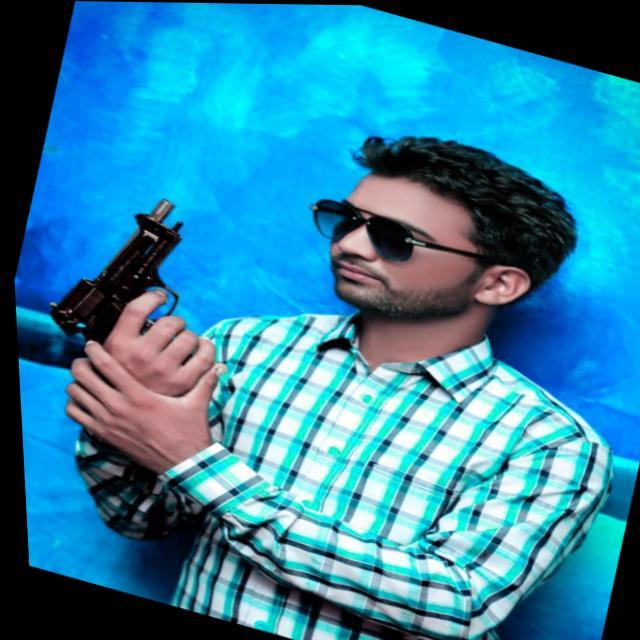weapon: (23, 170, 254, 400)
